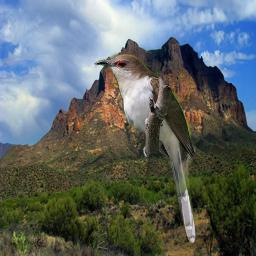Cuckoo: (93, 52, 197, 245)
